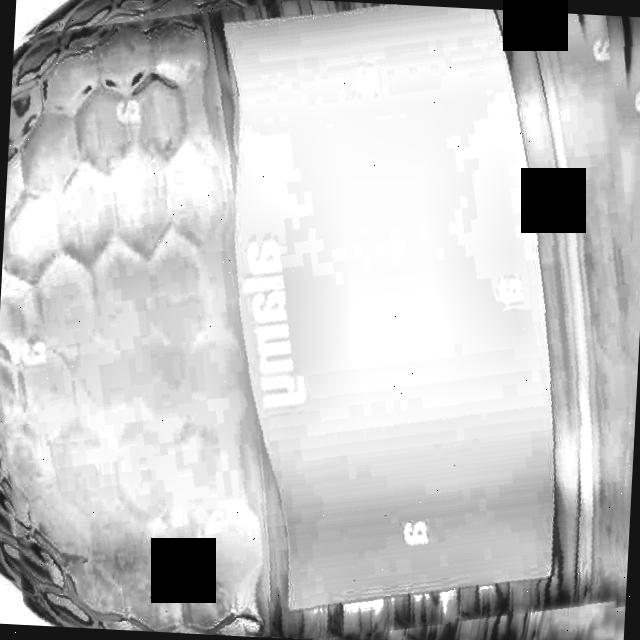bottle: (0, 0, 638, 639)
